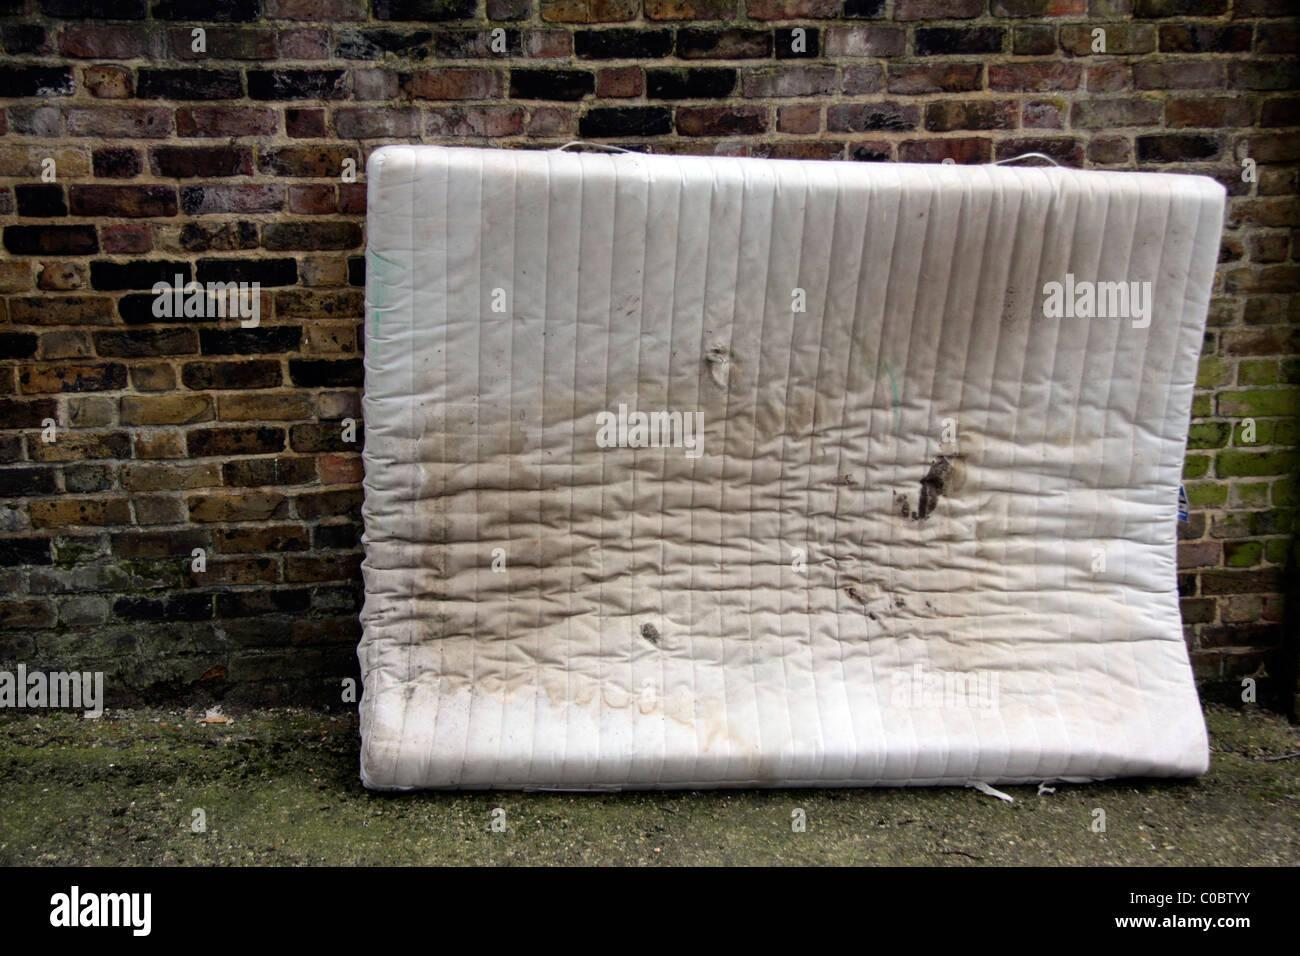Bed-Mattress: (334, 121, 1235, 810)
